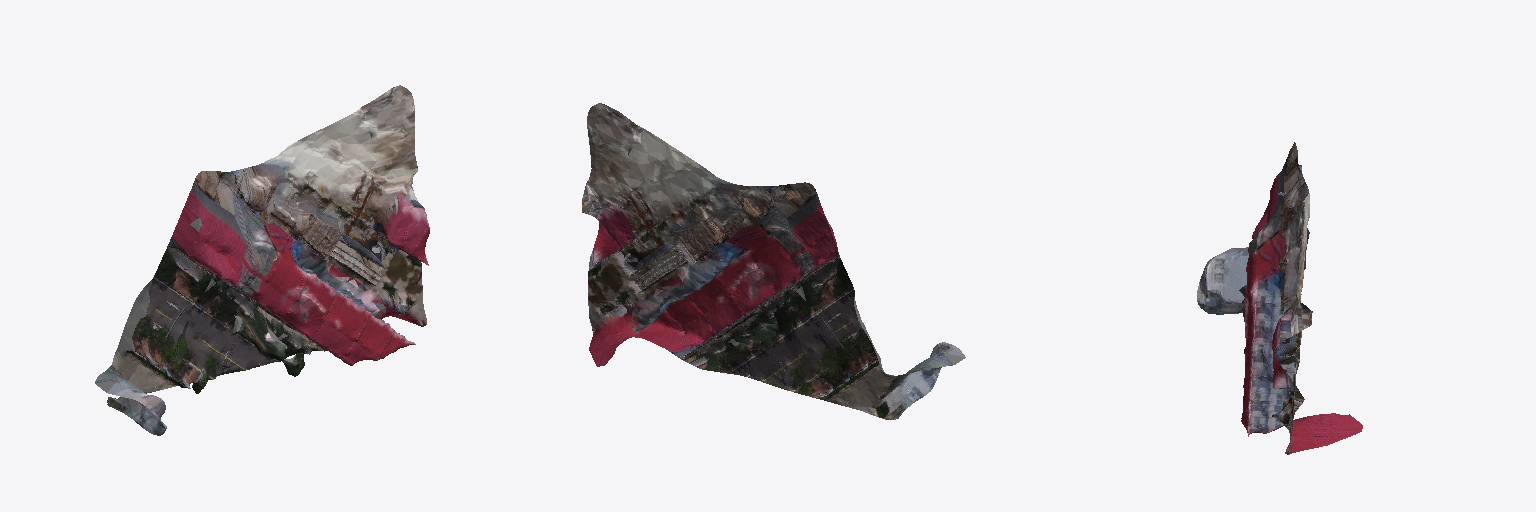
3 views of the same model, side by side, from view 1: azimuth 30°, elevation 25°; view 2: azimuth 150°, elevation 25°; view 3: azimuth 270°, elevation 25° (orthographic).
Bounding box in the file's own units: 54.4 × 37.03 × 22.52.
2 materials, 1 textured.